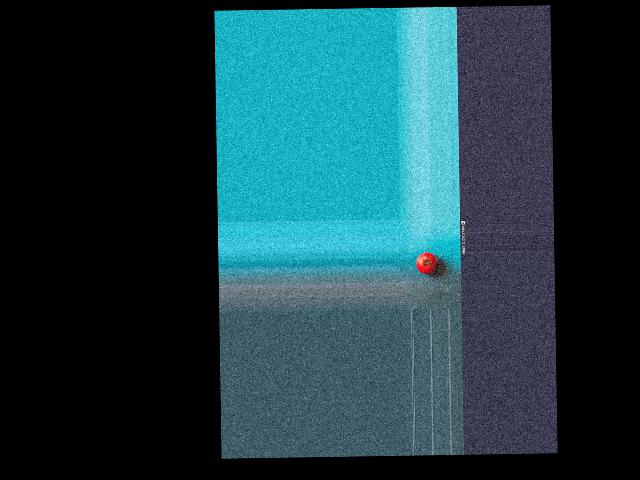tomato: (416, 252, 438, 274)
